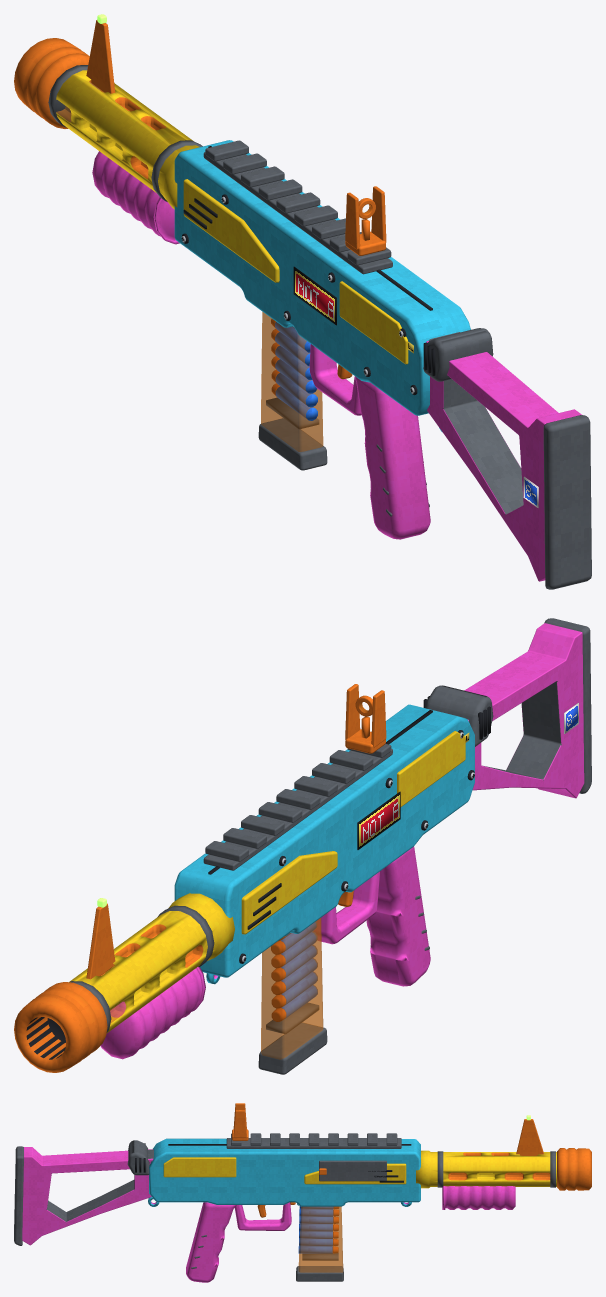
File: w_ar_toy.glb
The picture shows the model from 3 angles, top to bottom: view 1: azimuth 30°, elevation 25°; view 2: azimuth 150°, elevation 25°; view 3: azimuth 270°, elevation 25°; orthographic projection. The views are drawn at different scales.
Parts seen in each view (by area): view 1: toy_body_wzA, toy_body_wzB, toy_body_wzN; view 2: toy_body_wzA, toy_body_wzB, toy_body_wzN; view 3: toy_body_wzA, toy_body_wzB, toy_body_wzN.
Part boxes in pixels (left/top/right/bottom): toy_body_wzA: left=92, top=140, right=591, bottom=589; toy_body_wzB: left=14, top=20, right=435, bottom=451; toy_body_wzN: left=97, top=14, right=538, bottom=507; toy_body_wzA: left=100, top=618, right=591, bottom=1074; toy_body_wzB: left=14, top=684, right=490, bottom=1072; toy_body_wzN: left=97, top=702, right=578, bottom=1021; toy_body_wzA: left=14, top=1133, right=515, bottom=1282; toy_body_wzB: left=135, top=1103, right=591, bottom=1272; toy_body_wzN: left=298, top=1115, right=530, bottom=1253.
Bounding box in the file's own units: 0.09 × 0.3925 × 1.19.
Materials: 14 (9 with a texture image).
